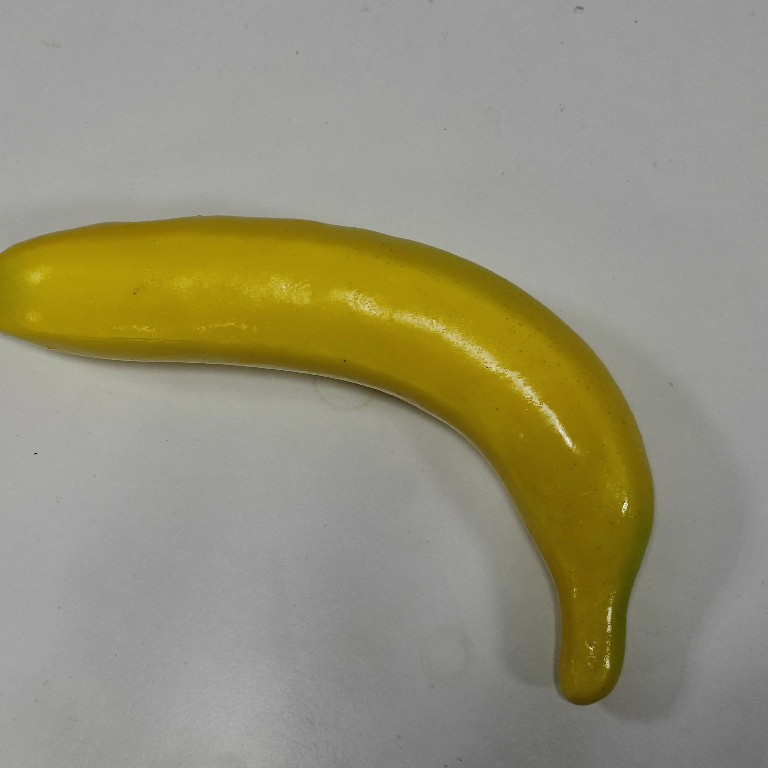fruit_banana: (1, 209, 658, 710)
